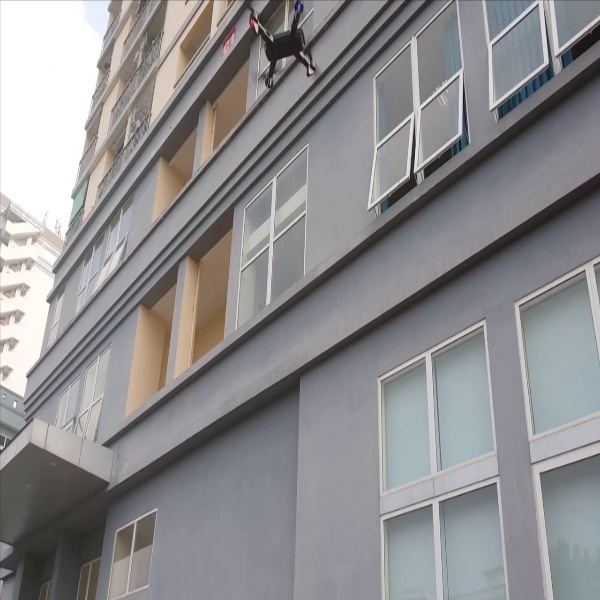drone: (241, 1, 335, 93)
